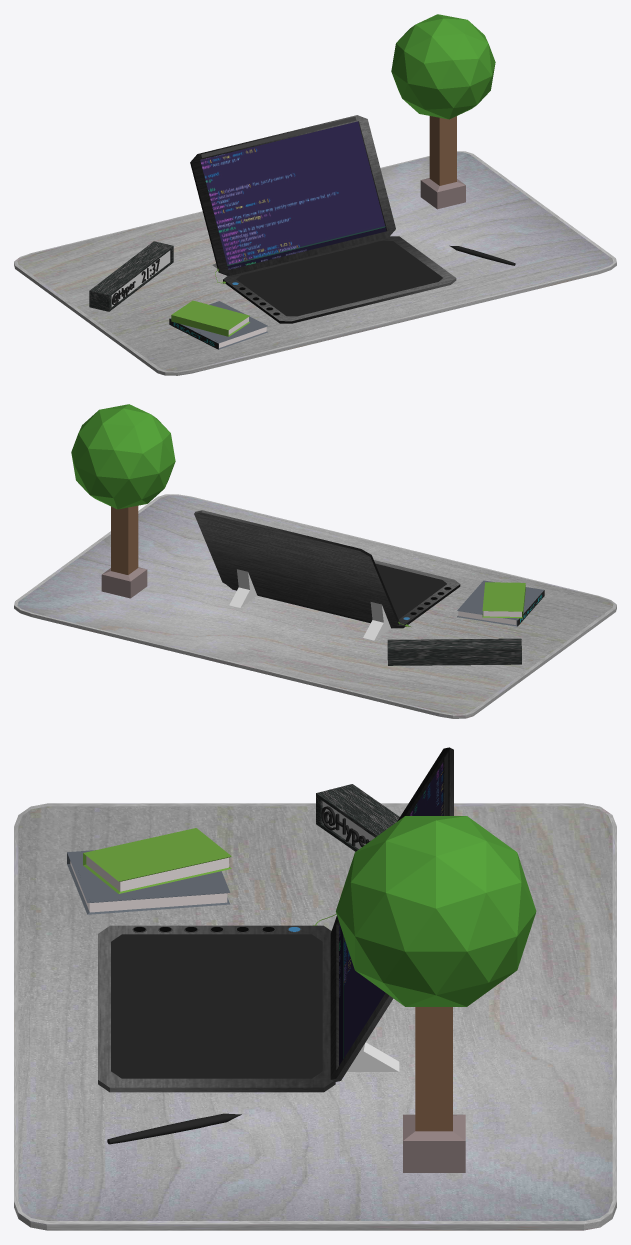
The model's file is workspace.gltf.
3 renders of one model, top to bottom at view 1: azimuth 30°, elevation 25°; view 2: azimuth 150°, elevation 25°; view 3: azimuth 270°, elevation 25°, orthographic. The views are drawn at different scales.
Visible parts, largest first — view 1: Cube.017; view 2: Cube.017; view 3: Cube.017.
Part boxes in pixels (bbox=[...]): Cube.017: bbox=[14, 14, 616, 375]; Cube.017: bbox=[14, 404, 616, 718]; Cube.017: bbox=[14, 747, 616, 1230].
Bounding box in the file's own units: 10.9 × 4.19 × 6.6.
Materials: 18 (5 with a texture image).
